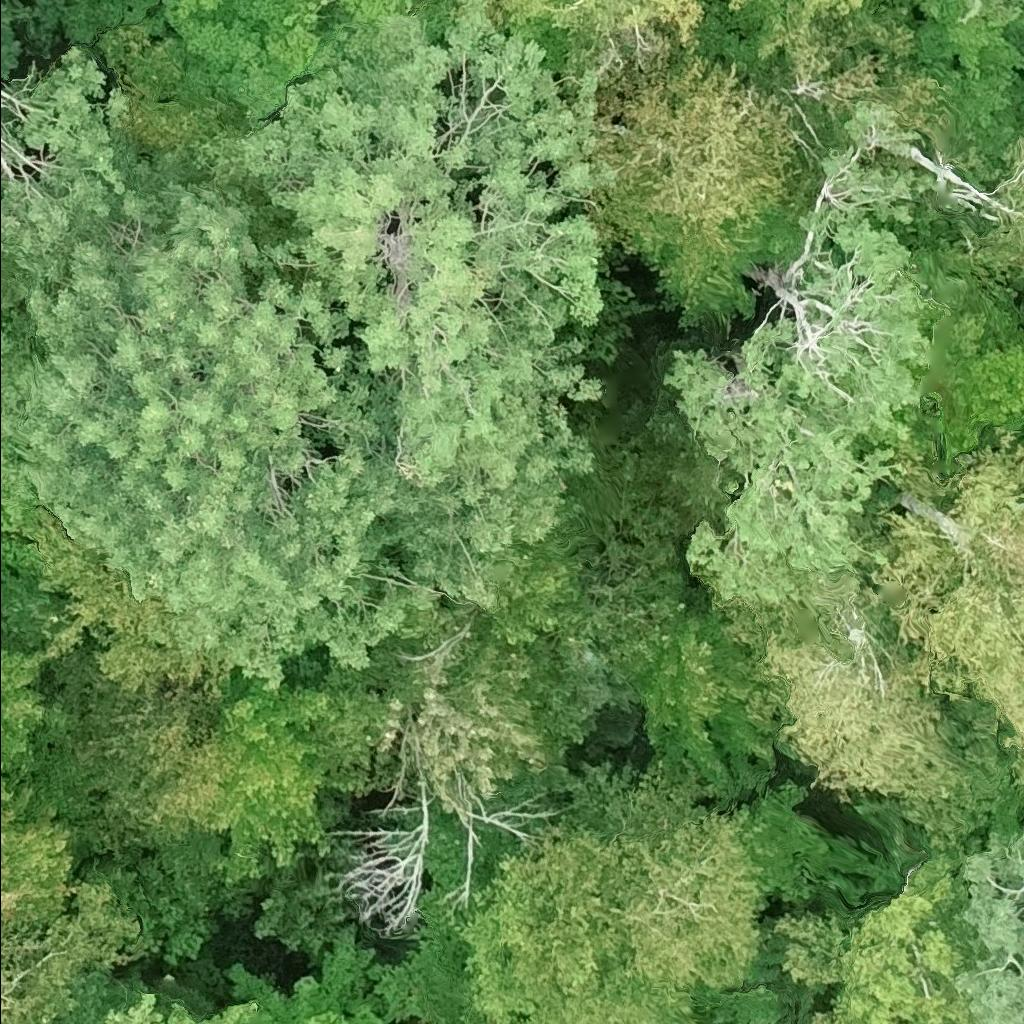crown: (187, 0, 646, 618), (0, 151, 440, 694), (563, 50, 814, 328), (361, 623, 601, 815), (17, 511, 233, 695), (33, 679, 231, 858), (151, 0, 416, 122), (0, 44, 152, 255), (208, 672, 338, 892), (0, 650, 79, 926), (0, 880, 139, 1023), (220, 925, 400, 1023), (502, 0, 702, 59), (102, 987, 263, 1023), (0, 510, 32, 575), (726, 0, 755, 11)
